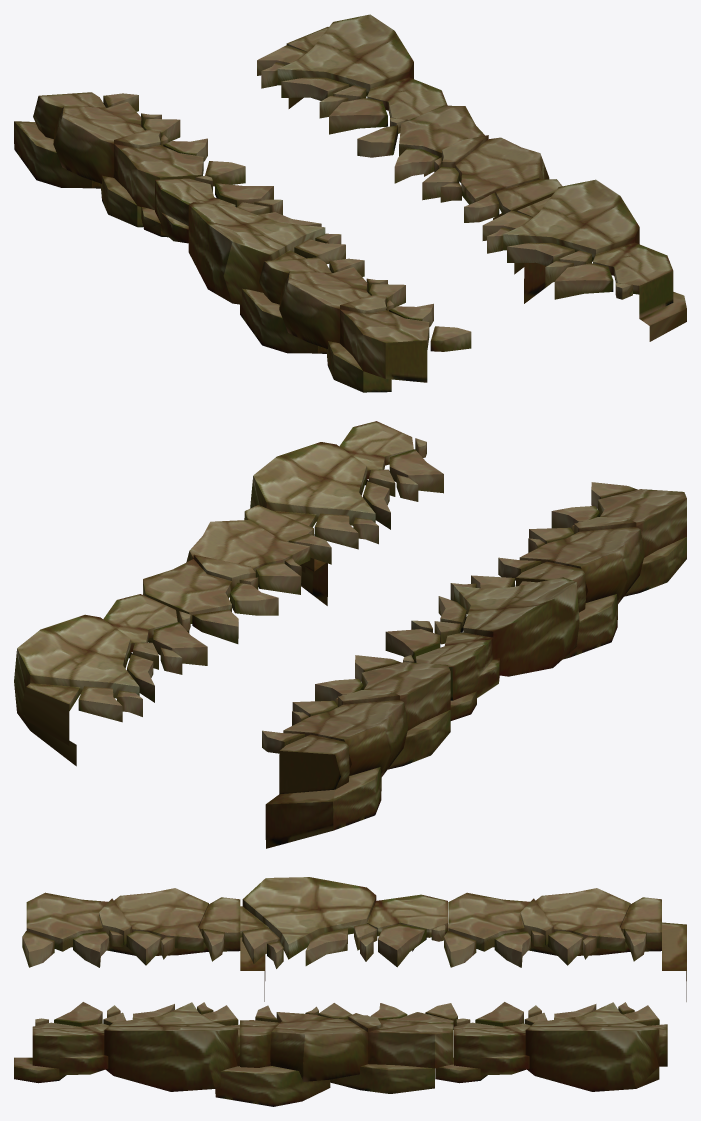
3 views of the same model, one above another, from view 1: azimuth 30°, elevation 25°; view 2: azimuth 150°, elevation 25°; view 3: azimuth 270°, elevation 25° (orthographic). The views are drawn at different scales.
Parts seen in each view (by area): view 1: s_wj9; view 2: s_wj9; view 3: s_wj9.
Boxes of the visible parts, x1,y1,x2,y2 form: s_wj9: (14, 14, 686, 392); s_wj9: (14, 421, 686, 848); s_wj9: (14, 877, 686, 1106).
Bounding box in the file's own units: 891 × 264 × 1595.
1 material, 1 textured.
